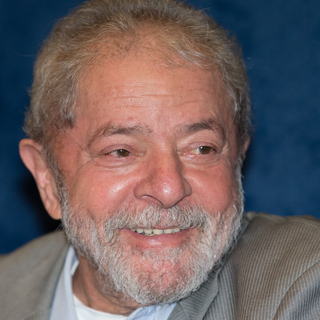eye: (96, 141, 142, 164), (183, 139, 225, 163)
